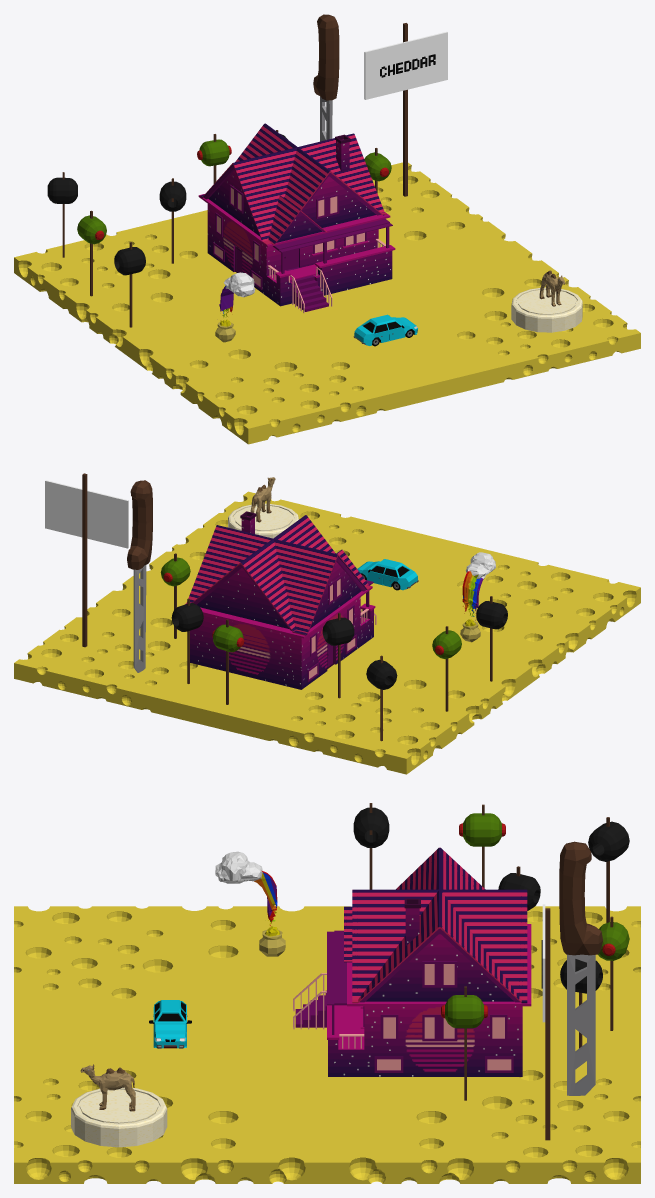
The picture shows the model from 3 angles, top to bottom: view 1: azimuth 30°, elevation 25°; view 2: azimuth 150°, elevation 25°; view 3: azimuth 270°, elevation 25°; orthographic projection. The views are drawn at different scales.
Visible parts, largest first — view 1: Cube.022, Cube.156, Cube.023, Cylinder.016, Cube.024, VEHICLES_CAR, OBJRANDOM_RAINBOW, Sphere.017, Sphere.016, Sphere.020, Sphere.018, Sphere.022 (+1 smaller); view 2: Cube.022, Cube.156, Cube.023, Cube.024, OBJRANDOM_RAINBOW, Cylinder.016, VEHICLES_CAR, Sphere.017, Sphere.020, Sphere.021, Sphere.016, Sphere.018 (+3 smaller); view 3: Cube.022, Cube.156, Cube.024, Cylinder.016, OBJRANDOM_RAINBOW, Cube.023, VEHICLES_CAR, Sphere.019, Sphere.016, Sphere.018, Sphere.017, Sphere.022 (+3 smaller).
Boxes of the visible parts, box(x1,y1,x2,y2) form: Cube.022: box(14, 162, 640, 444); Cube.156: box(198, 123, 395, 313); Cube.023: box(364, 23, 447, 196); Cylinder.016: box(511, 287, 582, 332); Cube.024: box(313, 14, 339, 141); VEHICLES_CAR: box(353, 314, 417, 346); OBJRANDOM_RAINBOW: box(215, 272, 255, 342); Sphere.017: box(114, 242, 145, 327); Sphere.016: box(47, 172, 77, 257); Sphere.020: box(159, 178, 186, 263); Sphere.018: box(77, 210, 106, 296); Sphere.022: box(197, 134, 231, 183); Cube.022: box(14, 491, 640, 774); Cube.156: box(185, 511, 376, 689); Cube.023: box(45, 473, 128, 647); Cube.024: box(127, 480, 152, 672); OBJRANDOM_RAINBOW: box(460, 552, 495, 642); Cylinder.016: box(228, 503, 298, 538); VEHICLES_CAR: box(357, 559, 418, 590); Sphere.017: box(476, 596, 507, 681); Sphere.020: box(322, 612, 354, 698); Sphere.021: box(171, 598, 203, 683); Sphere.016: box(366, 655, 397, 741); Sphere.018: box(432, 626, 461, 711); Cube.022: box(14, 906, 640, 1183); Cube.156: box(293, 847, 531, 1076); Cube.024: box(559, 841, 602, 1095); Cylinder.016: box(71, 1087, 167, 1147); OBJRANDOM_RAINBOW: box(215, 851, 285, 956); Cube.023: box(541, 904, 550, 1140); VEHICLES_CAR: box(149, 1000, 191, 1048); Sphere.019: box(441, 986, 487, 1100); Sphere.016: box(588, 817, 629, 922); Sphere.018: box(459, 804, 505, 887); Sphere.017: box(353, 803, 389, 889); Sphere.022: box(598, 916, 629, 1030).
Size of the model in its own units: 3917 by 2007 by 4000.
46 materials, 5 textured.
